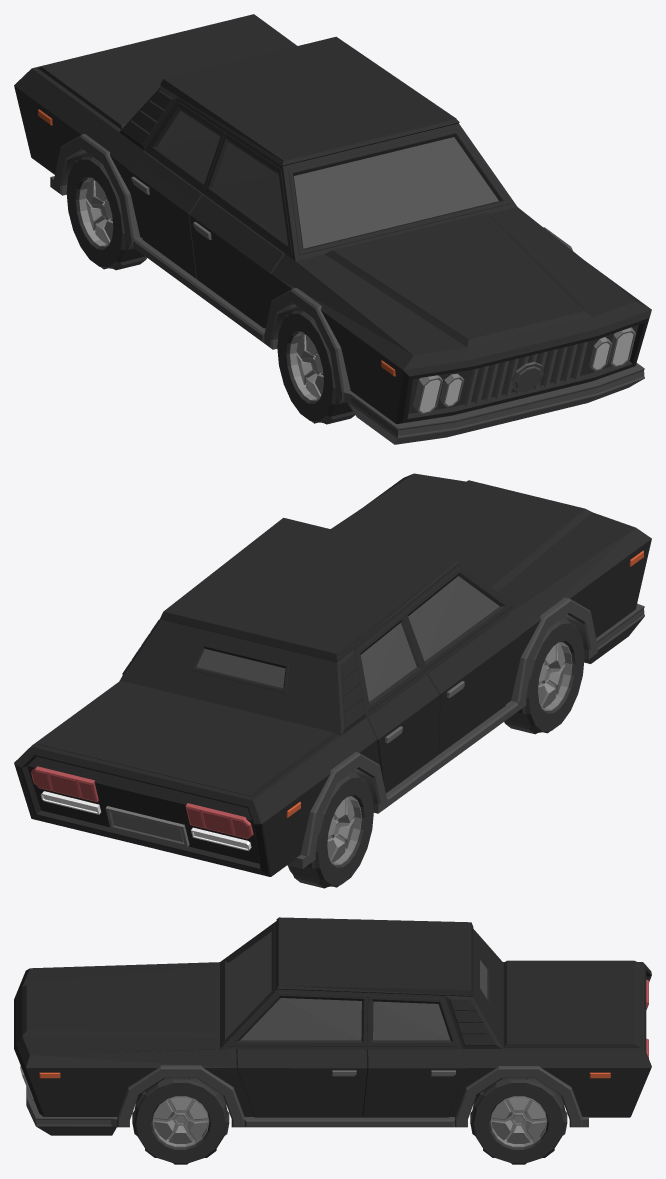
File: sport.glb
3 renders of one model, top to bottom at view 1: azimuth 30°, elevation 25°; view 2: azimuth 150°, elevation 25°; view 3: azimuth 270°, elevation 25°, orthographic. The views are drawn at different scales.
Visible parts, largest first — view 1: body, wheel_rear_L, wheel_front_L; view 2: body, wheel_rear_L, wheel_front_L; view 3: body, wheel_rear_R, wheel_front_R.
Part boxes in pixels (bbox=[...]): body: bbox=[14, 14, 651, 444]; wheel_rear_L: bbox=[66, 153, 146, 270]; wheel_front_L: bbox=[277, 307, 354, 424]; body: bbox=[14, 473, 651, 876]; wheel_rear_L: bbox=[287, 771, 373, 888]; wheel_front_L: bbox=[504, 617, 584, 734]; body: bbox=[14, 917, 651, 1135]; wheel_rear_R: bbox=[470, 1078, 567, 1164]; wheel_front_R: bbox=[132, 1078, 229, 1164].
Size of the model in its own units: 1.79 by 1.38 by 4.81.
Materials: 1 (1 with a texture image).
